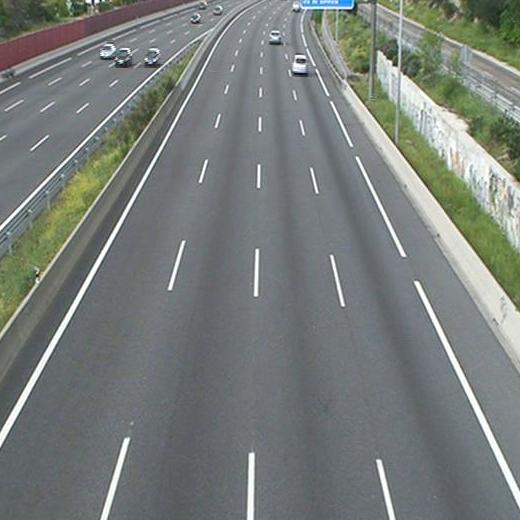car: (292, 56, 308, 72), (269, 31, 282, 43)
